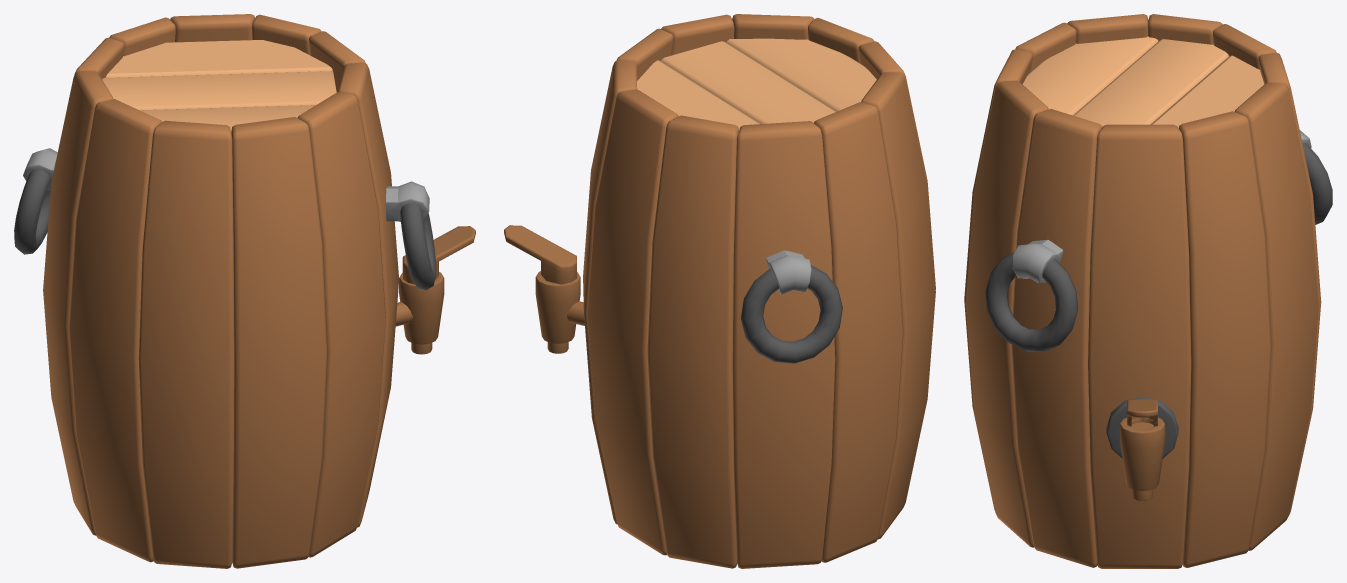
File: Wooden_Barrel_03.fbx
3 views of the same model, side by side, from view 1: azimuth 30°, elevation 25°; view 2: azimuth 150°, elevation 25°; view 3: azimuth 270°, elevation 25° (orthographic).
Visible parts, largest first — view 1: Wooden_Barrel_03; view 2: Wooden_Barrel_03; view 3: Wooden_Barrel_03.
Part boxes in pixels (left/top/right/bottom): Wooden_Barrel_03: left=14, top=14, right=475, bottom=568; Wooden_Barrel_03: left=504, top=14, right=935, bottom=568; Wooden_Barrel_03: left=964, top=14, right=1332, bottom=568.
Size of the model in its own units: 819 by 850 by 648.
